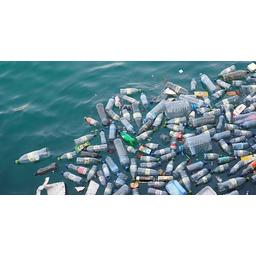plastic: (12, 141, 54, 170), (115, 137, 134, 172), (78, 108, 103, 133), (72, 131, 99, 148), (116, 82, 144, 96)
